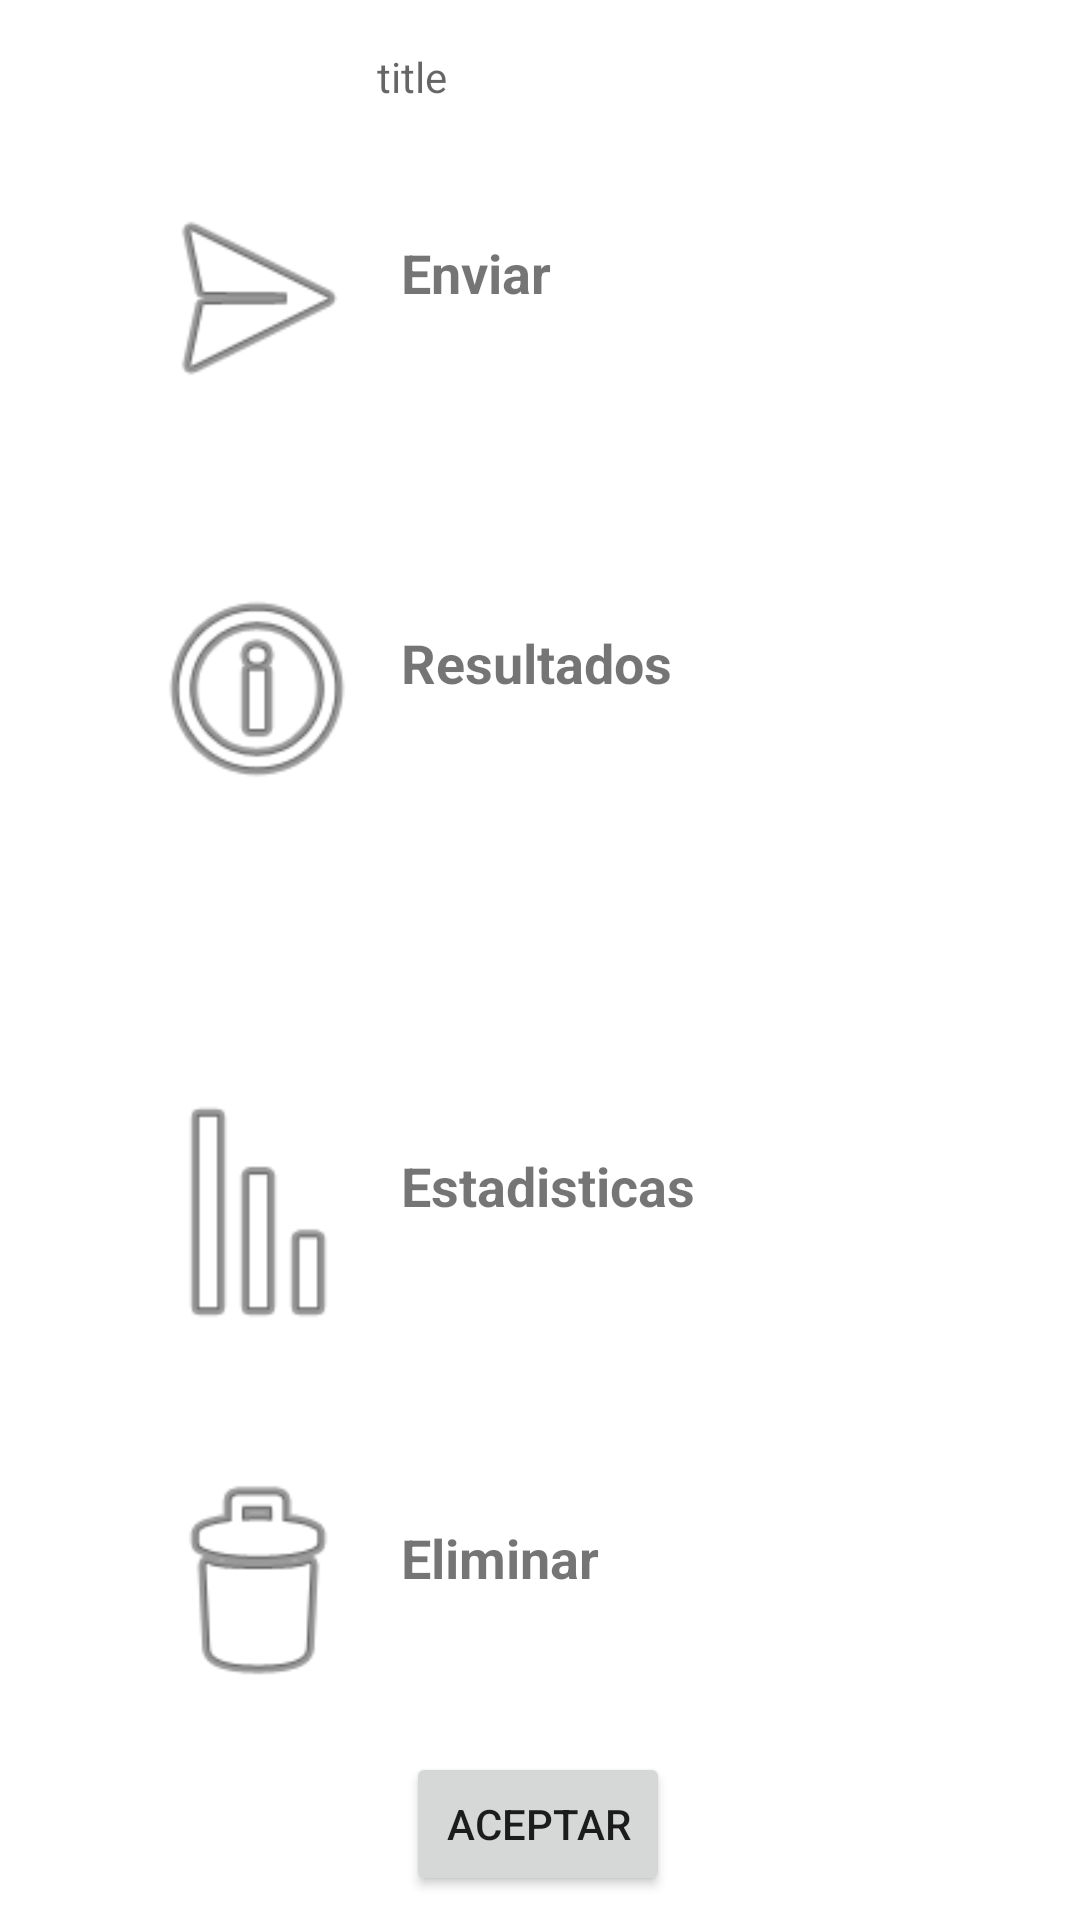

Named icons in this screenshot (1080 x 1920) and their bounding boxes, (x1, y1, x2, y2):
delete: (190, 1486, 326, 1674)
info details: (170, 602, 344, 776)
send: (182, 222, 336, 374)
